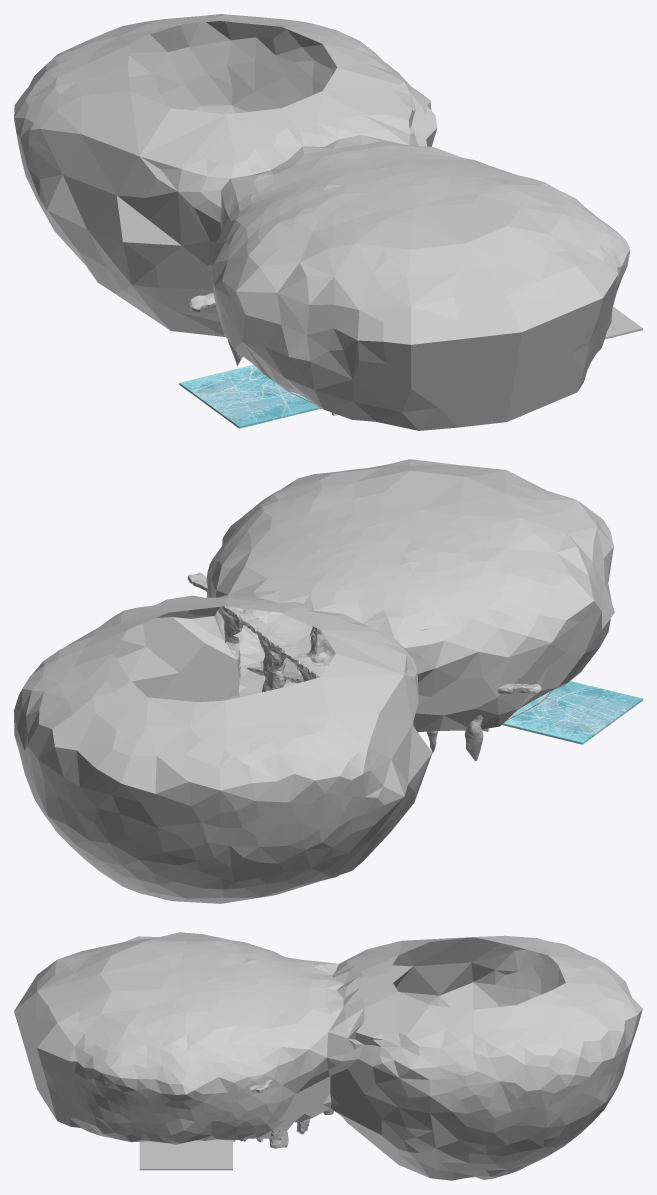
The model's file is WhiteboxForColossalKickoff.fbx.
The picture shows the model from 3 angles, top to bottom: view 1: azimuth 30°, elevation 25°; view 2: azimuth 150°, elevation 25°; view 3: azimuth 270°, elevation 25°; orthographic projection. The views are drawn at different scales.
Visible parts, largest first — view 1: Sphere, Sphere.001, Cube.011, Cube.010; view 2: Sphere, Cube.011, Sphere.001, Cube.013, Cube.014; view 3: Sphere, Sphere.001, Cube.010, Cube.013.
Part boxes in pixels (x1,y1,x2,y2): Sphere: [14, 14, 629, 419]; Sphere.001: [352, 226, 630, 430]; Cube.011: [179, 364, 320, 428]; Cube.010: [604, 306, 642, 339]; Sphere: [14, 468, 614, 903]; Cube.011: [502, 681, 642, 744]; Sphere.001: [317, 459, 613, 545]; Cube.013: [187, 572, 326, 692]; Cube.014: [247, 666, 541, 761]; Sphere: [83, 932, 642, 1180]; Sphere.001: [14, 949, 121, 1135]; Cube.010: [139, 1139, 232, 1170]; Cube.013: [250, 1080, 333, 1148].
Size of the model in its own units: 4353 by 2462 by 7558.
